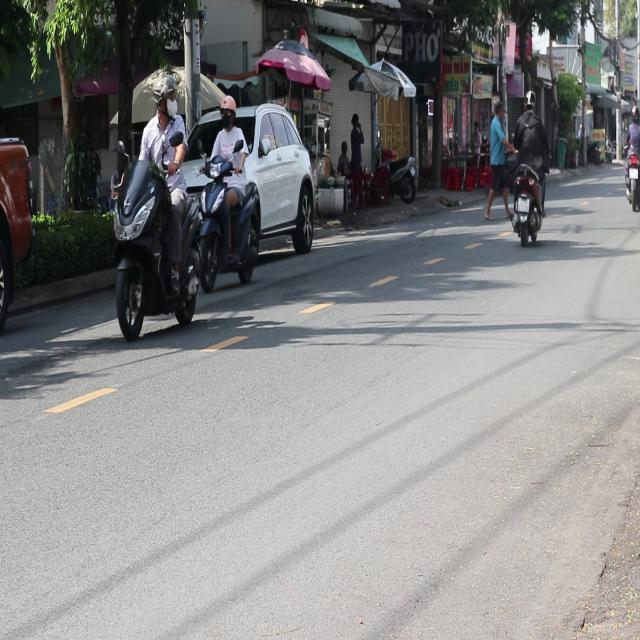helmet: (153, 72, 175, 120), (158, 73, 178, 119), (218, 94, 236, 128), (524, 89, 536, 111)
licenseplate: (110, 69, 204, 341), (195, 92, 260, 290), (510, 89, 549, 245)
nohelmet: (517, 198, 529, 211)
